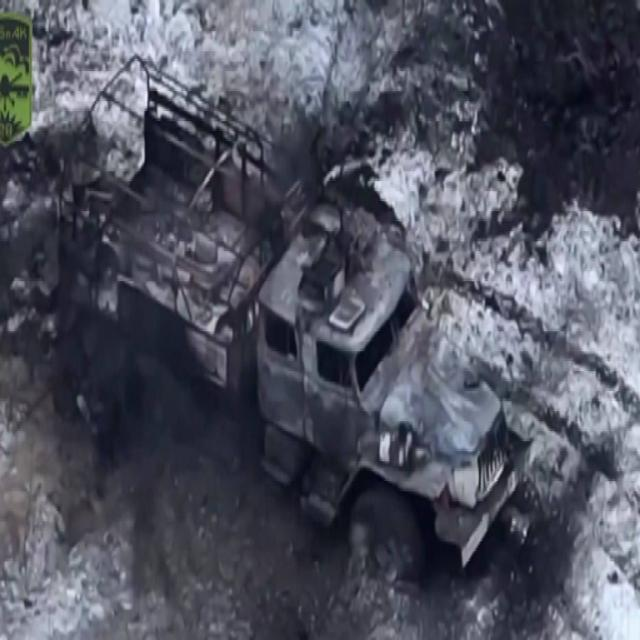TRUCK: (52, 48, 526, 586)
